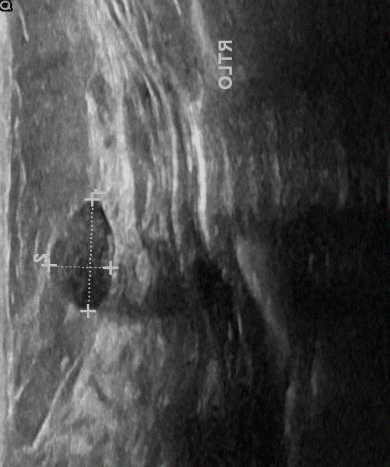Benign: (50, 198, 119, 307)
